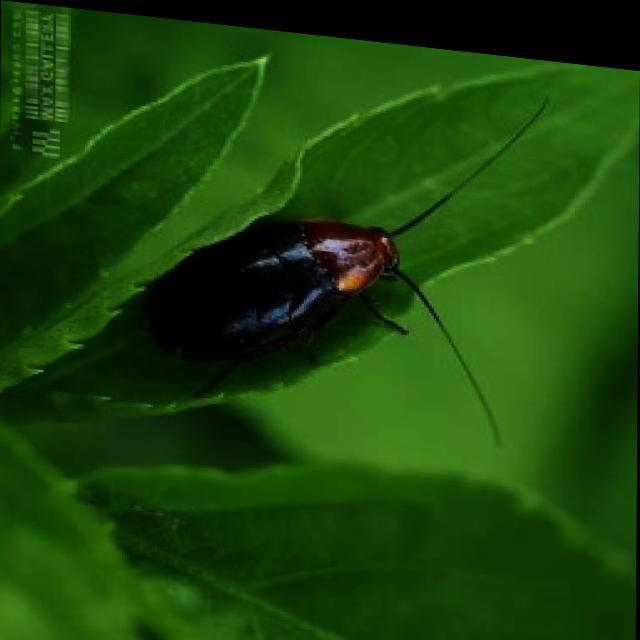cockroach: (162, 178, 450, 424)
